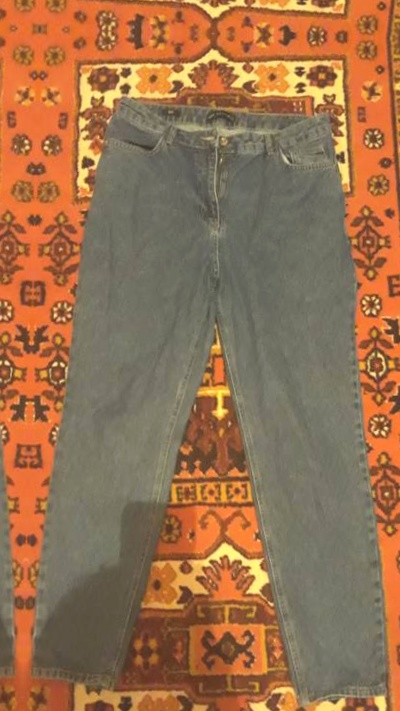Pants: (21, 88, 395, 711), (0, 79, 38, 711)
